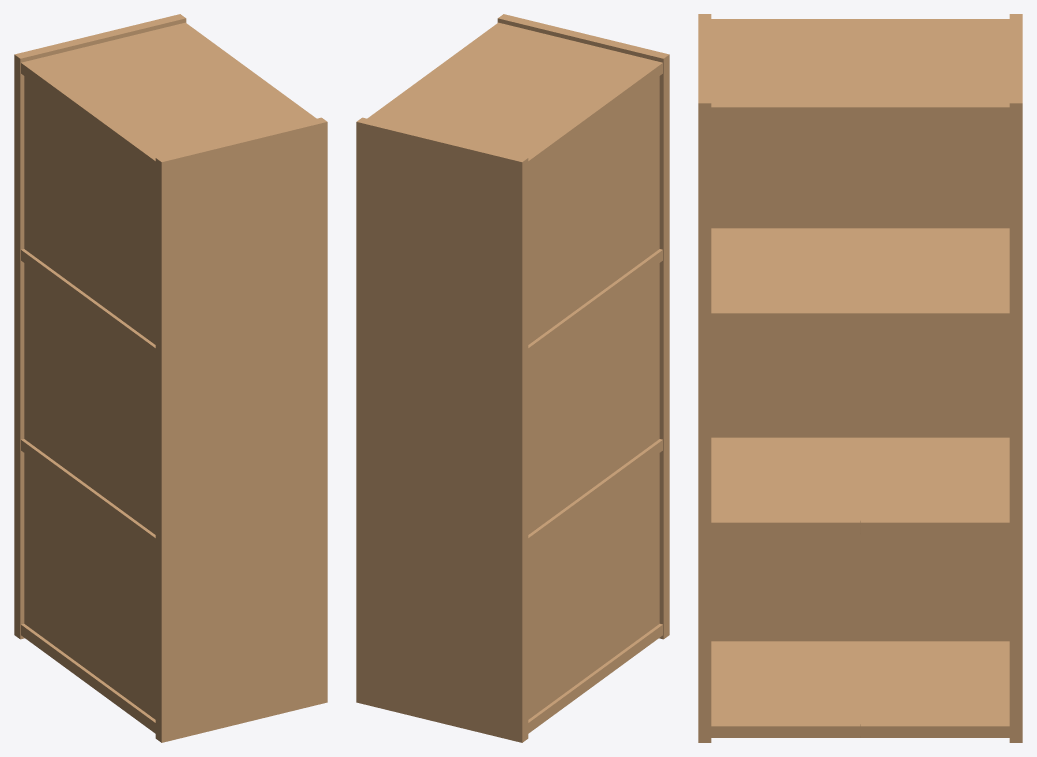
The model's file is color-box-brown.glb.
3 renders of one model, left to right at view 1: azimuth 30°, elevation 25°; view 2: azimuth 150°, elevation 25°; view 3: azimuth 270°, elevation 25°, orthographic. The views are drawn at different scales.
Visible parts, largest first — view 1: color-box; view 2: color-box; view 3: color-box.
Boxes of the visible parts, left/top/right/bottom form: color-box: left=14, top=14, right=327, bottom=742; color-box: left=356, top=14, right=669, bottom=742; color-box: left=698, top=14, right=1022, bottom=742.
Bounding box in the file's own units: 0.275 × 0.92 × 0.423.
